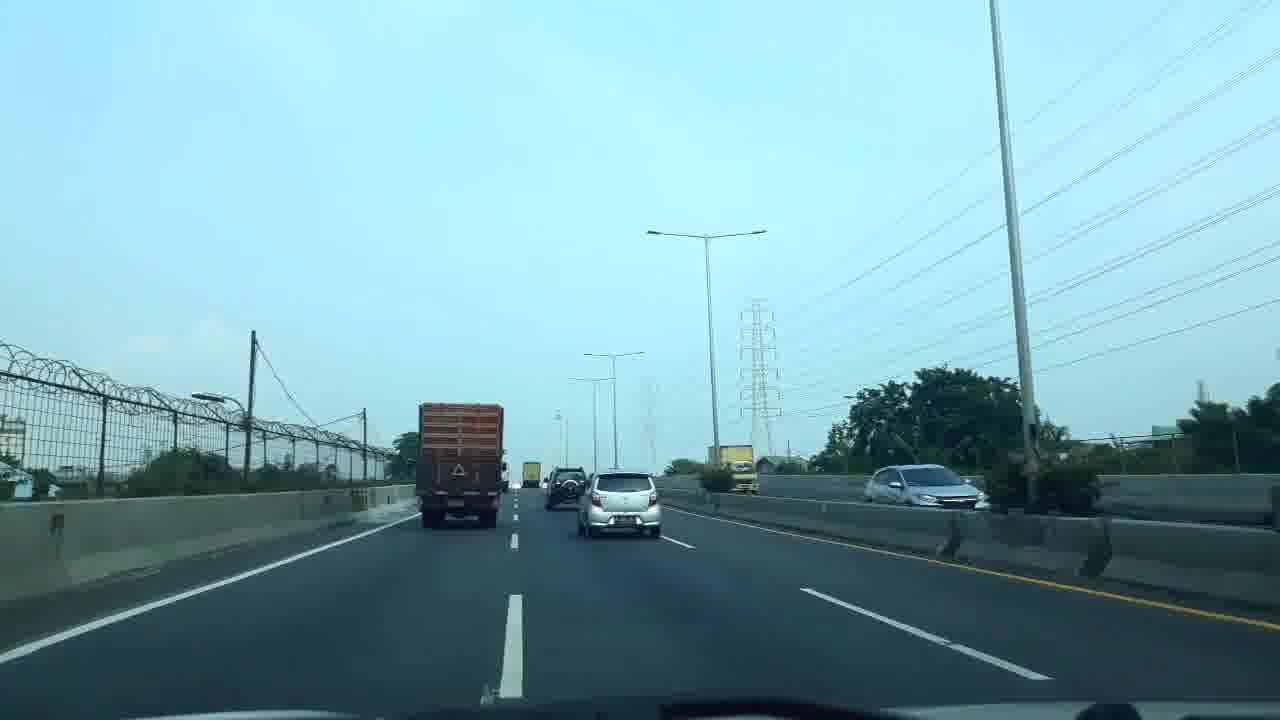plate_positive: (614, 516, 636, 525), (447, 499, 464, 507)
